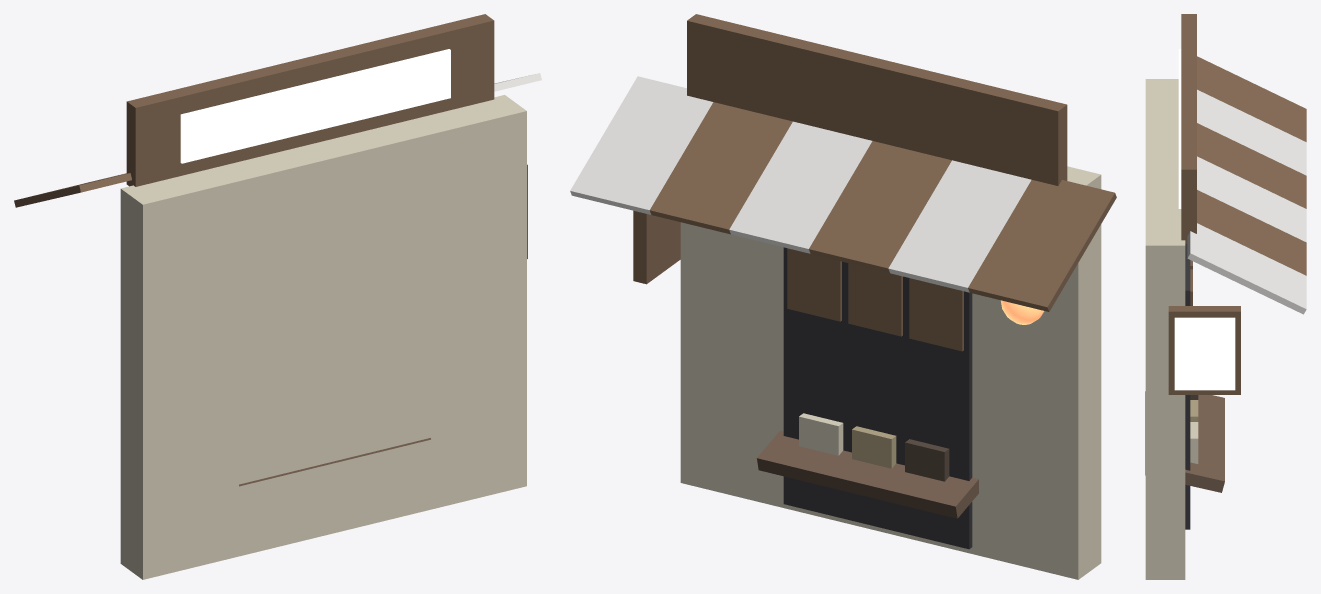
File: prop_mise_pan.glb
3 views of the same model, side by side, from view 1: azimuth 30°, elevation 25°; view 2: azimuth 150°, elevation 25°; view 3: azimuth 270°, elevation 25° (orthographic). The views are drawn at different scales.
Parts seen in each view (by area): view 1: mise_pan; view 2: mise_pan; view 3: mise_pan.
Boxes of the visible parts, x1,y1,x2,y2 form: mise_pan: (14, 14, 541, 579); mise_pan: (570, 14, 1116, 579); mise_pan: (1145, 14, 1306, 579).
Bounding box in the file's own units: 3.6 × 3.39 × 1.23.
